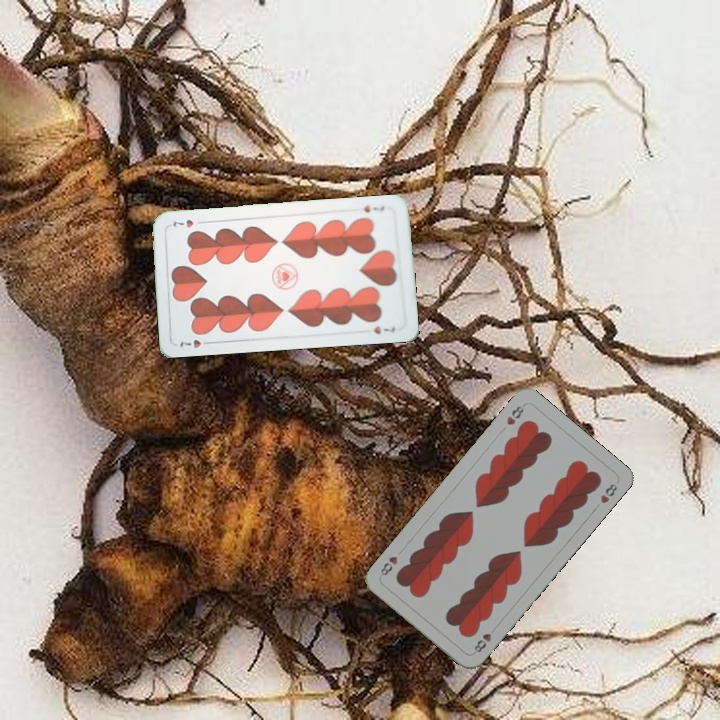H7: (176, 335, 214, 351), (360, 201, 387, 215)
H8: (470, 622, 499, 655), (502, 400, 527, 428)
